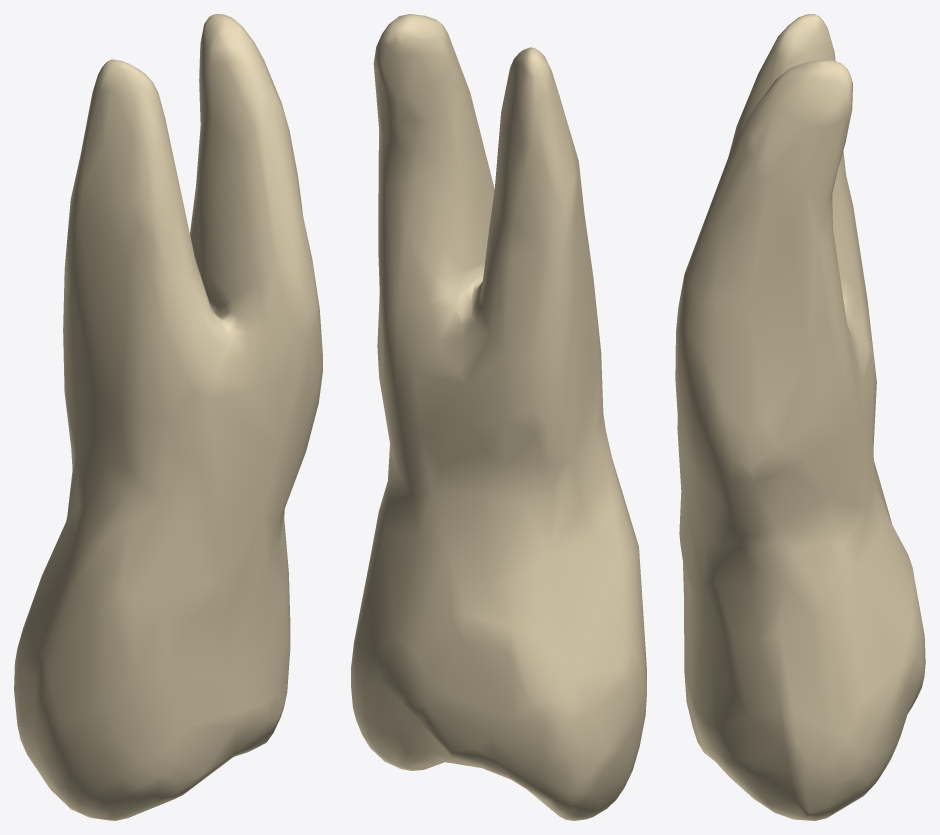
Rendered from tooth-15.glb.
The picture shows the model from 3 angles, left to right: view 1: azimuth 30°, elevation 25°; view 2: azimuth 150°, elevation 25°; view 3: azimuth 270°, elevation 25°; orthographic projection. The views are drawn at different scales.
Visible parts, largest first — view 1: tooth-15; view 2: tooth-15; view 3: tooth-15.
Part boxes in pixels (box(x1,y1,x2,y2)): tooth-15: box(14, 14, 322, 820); tooth-15: box(351, 14, 646, 820); tooth-15: box(675, 14, 925, 820).
Size of the model in its own units: 0.2323 by 0.6487 by 0.1894.
